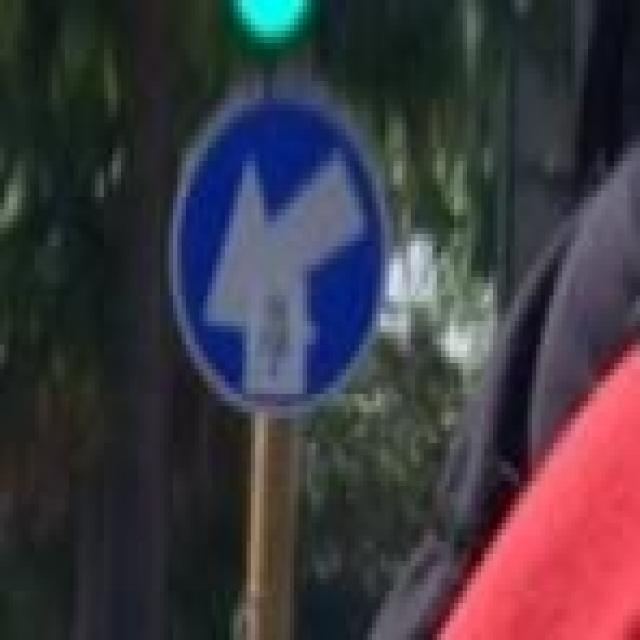traffic sign: (173, 93, 376, 419)
